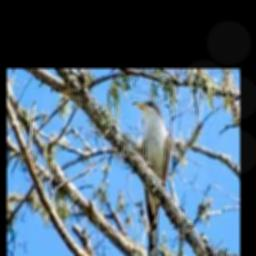Cuckoo: (133, 100, 171, 256)
